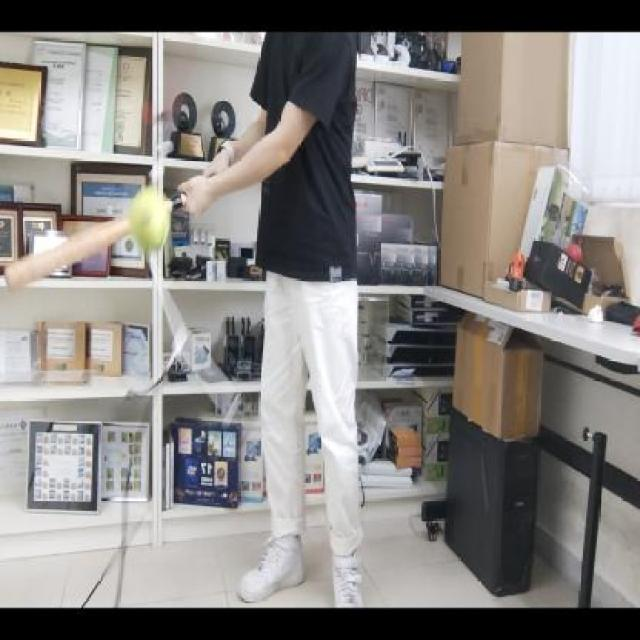baseball: (128, 184, 174, 251)
